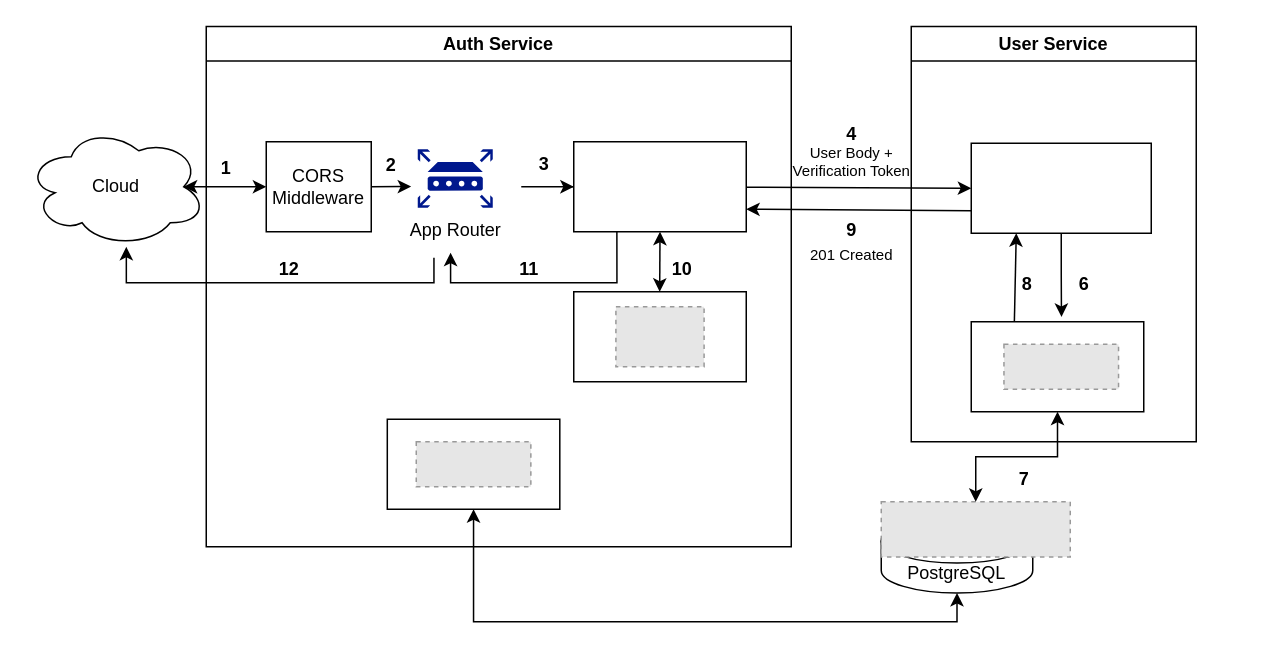
Image size: 1274x662. Some labels were removed from this diagram. Grey dashed boxes stand in for pictures. Each missing label, with the centre of its shape:
"POST /registerByEmail" goes at [659,186].
"POST /users" goes at [1060,187].
